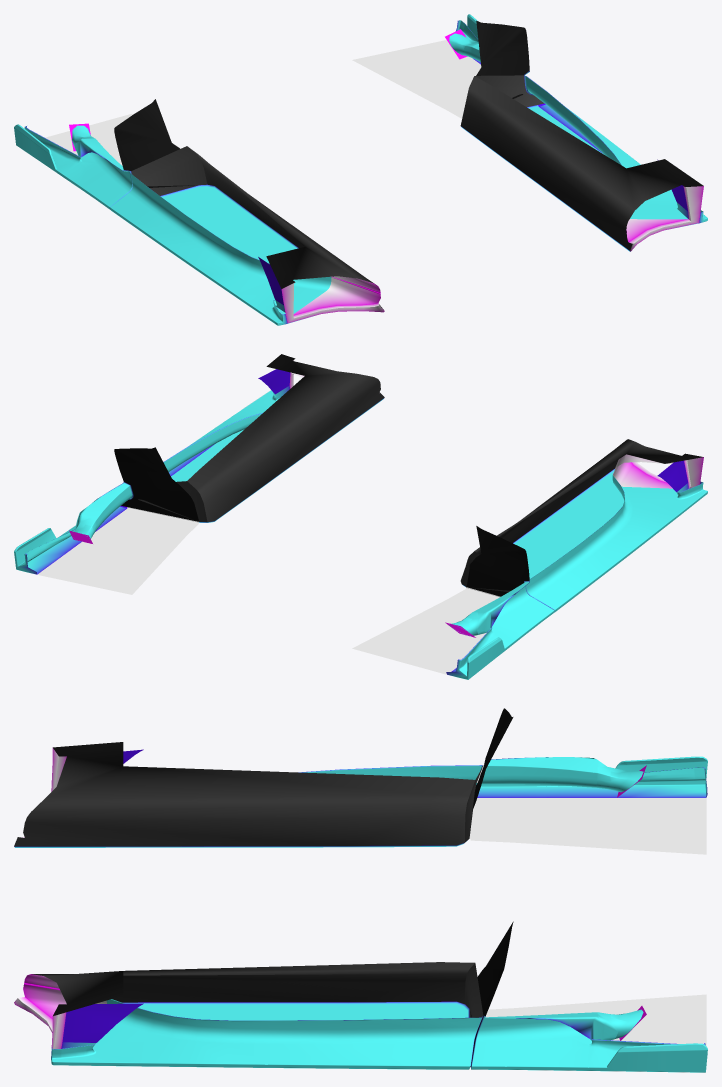
The model's file is Car_Ford_GT_2017_Skirts_SetE.fbx.
3 views of the same model, one above another, from view 1: azimuth 30°, elevation 25°; view 2: azimuth 150°, elevation 25°; view 3: azimuth 270°, elevation 25° (orthographic). The views are drawn at different scales.
Visible parts, largest first — view 1: Skirts 6; view 2: Skirts 6; view 3: Skirts 6.
Boxes of the visible parts, x1,y1,x2,y2 form: Skirts 6: [14, 14, 707, 325]; Skirts 6: [14, 354, 707, 679]; Skirts 6: [14, 708, 707, 1072].
Bounding box in the file's own units: 2.01 × 0.3566 × 2.03.
